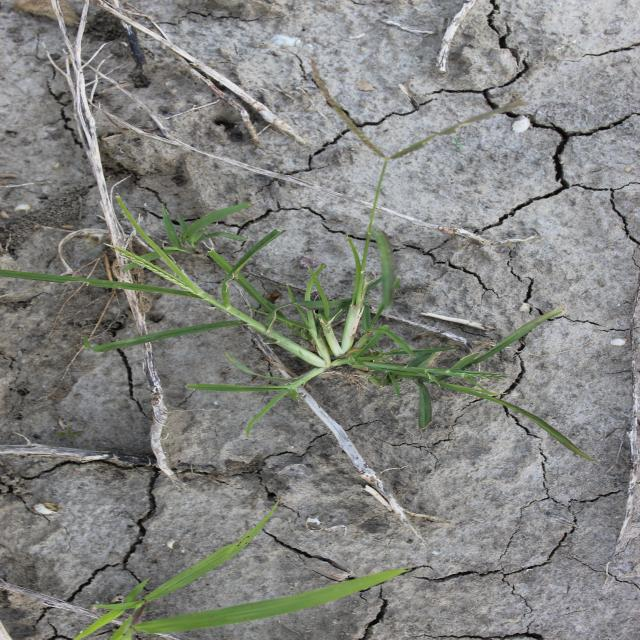Goosegrass: (3, 59, 605, 463)
